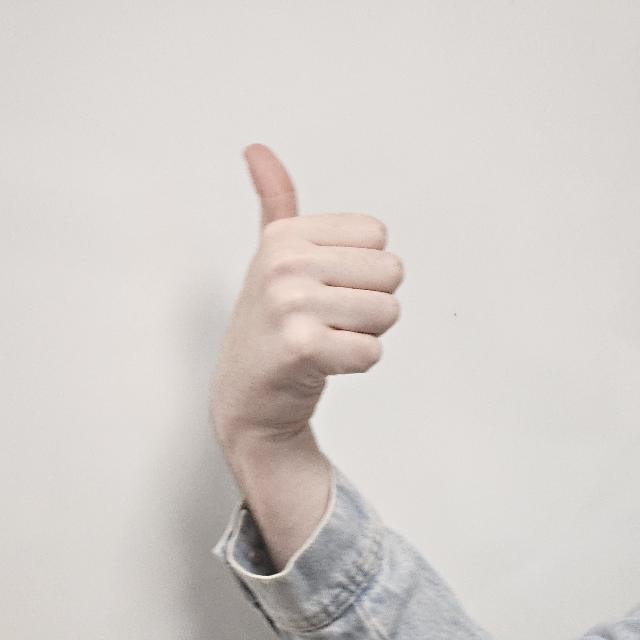Start: (220, 124, 410, 438)
